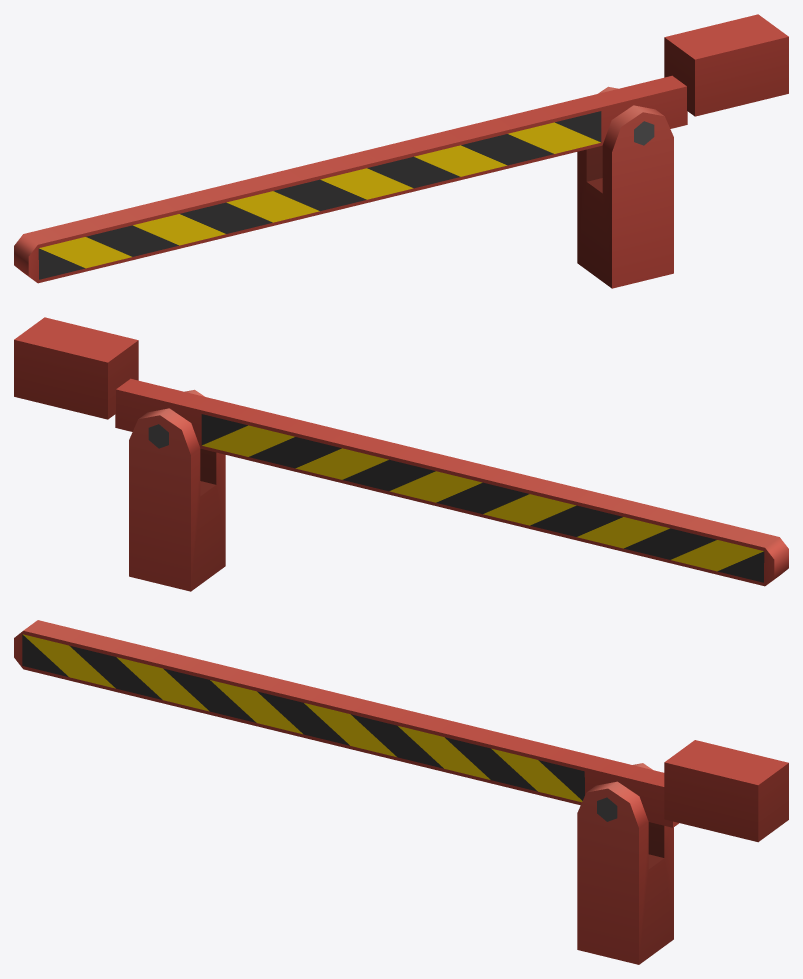
Rendered from Barrier.fbx.
3 renders of one model, top to bottom at view 1: azimuth 30°, elevation 25°; view 2: azimuth 150°, elevation 25°; view 3: azimuth 330°, elevation 25°, orthographic.
Visible parts, largest first — view 1: Joist, Stand; view 2: Joist, Stand; view 3: Joist, Stand.
Boxes of the visible parts, x1,y1,x2,y2 form: Joist: (14, 14, 788, 283); Stand: (577, 86, 673, 288); Joist: (14, 317, 788, 586); Stand: (129, 389, 225, 591); Joist: (14, 620, 788, 842); Stand: (577, 763, 673, 964).
Bounding box in the file's own units: 601 × 158 × 51.12.
